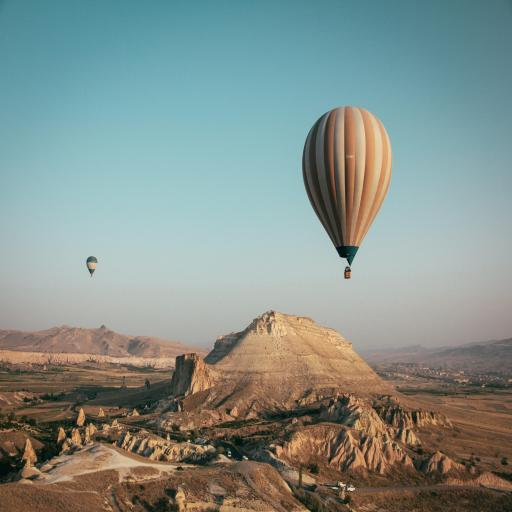hot air ballon: (302, 106, 392, 280), (86, 256, 98, 277)
